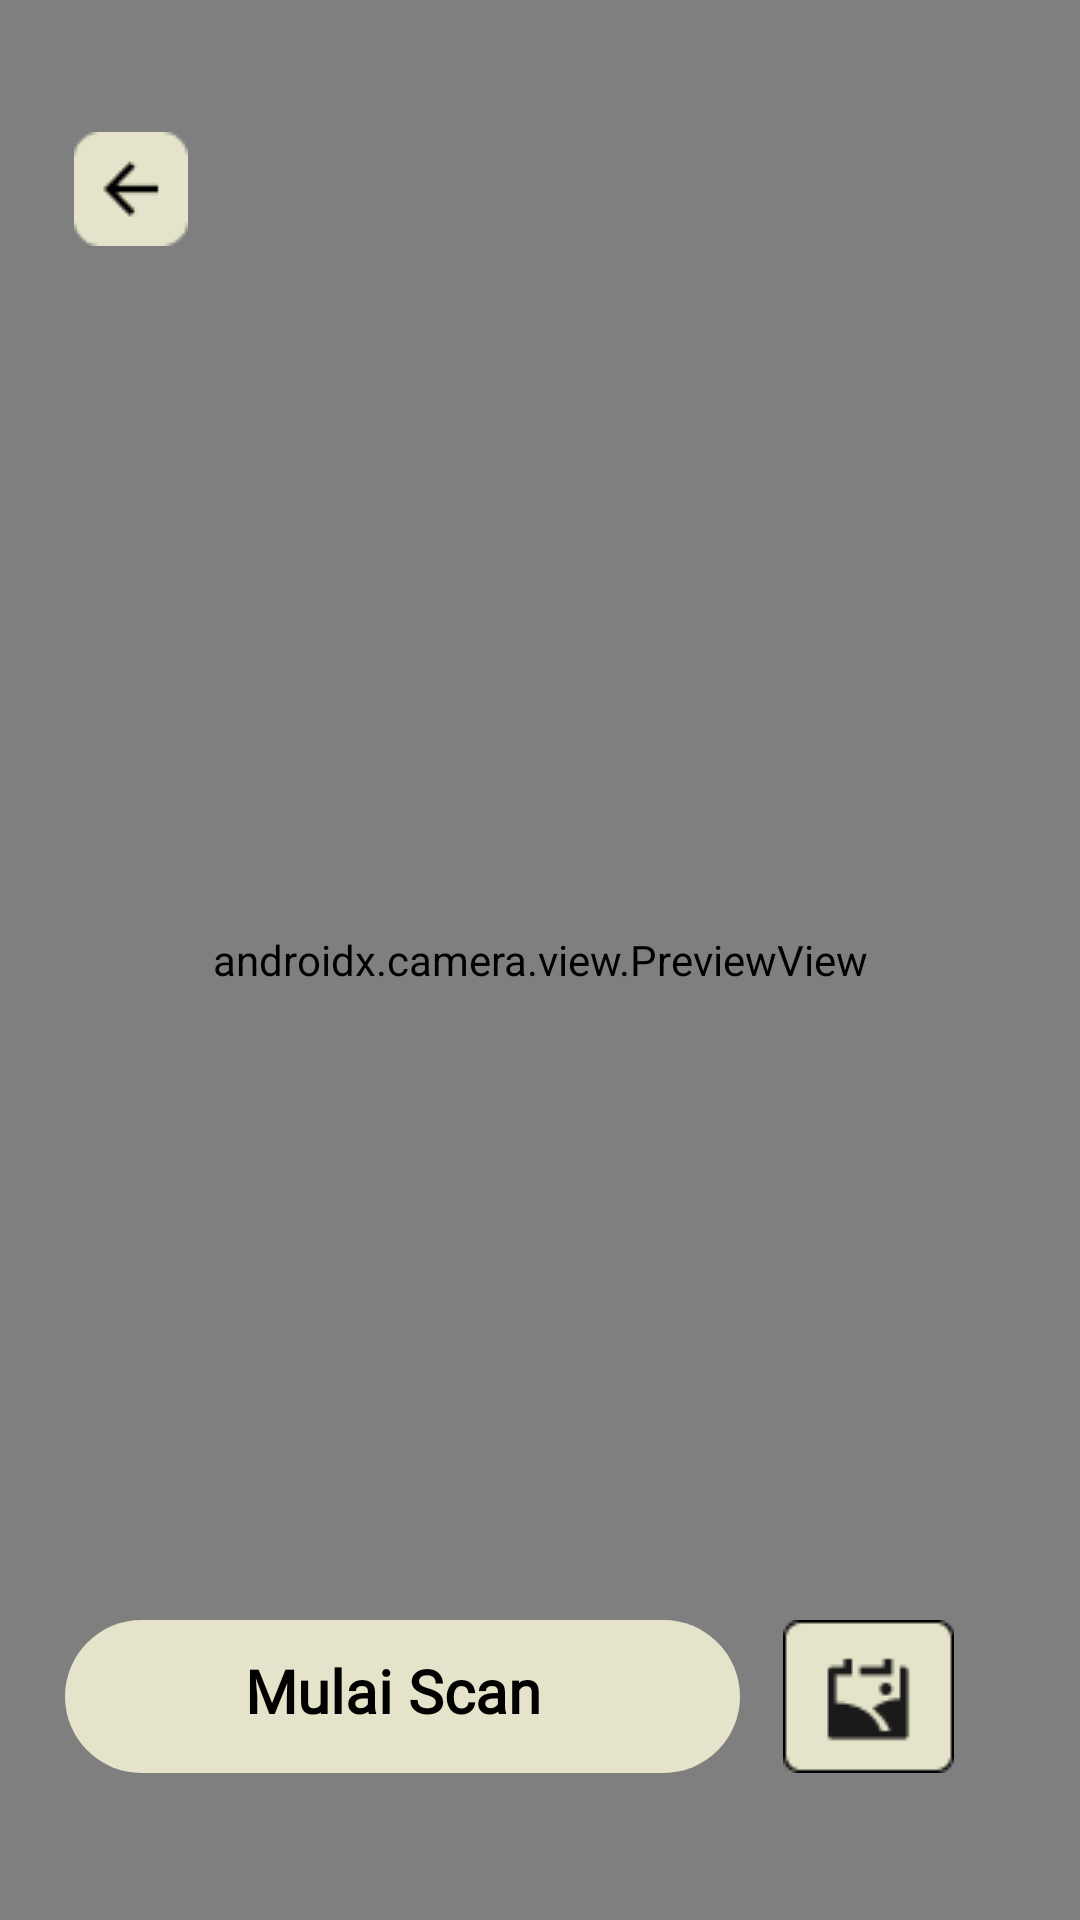

Named icons in this screenshot (1080 × 1920) and their bounding boxes, (x1, y1, x2, y2):
backcream: (74, 132, 188, 246)
gallery: (783, 1620, 954, 1773)
